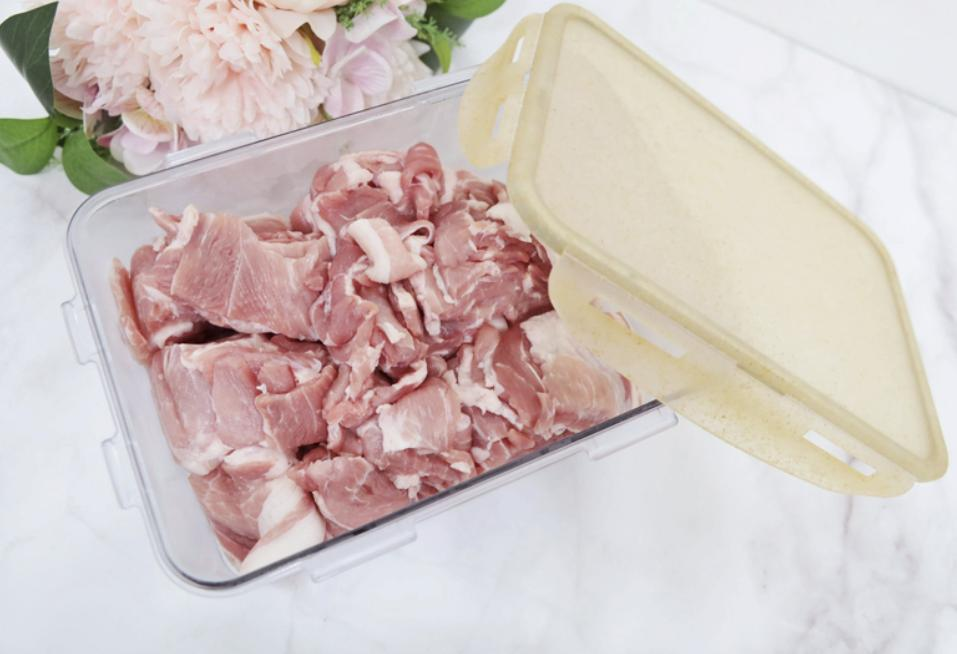Lunch Box: (63, 4, 947, 590)
